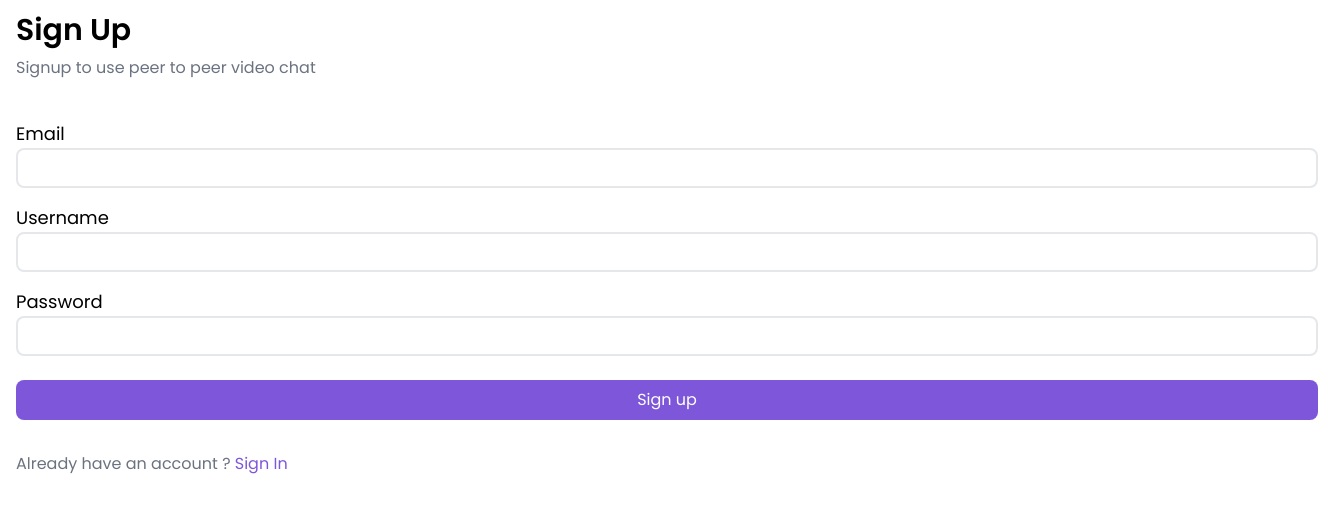
Test: Signup form › should show error if username is taken
Type "test@test.com" into the field labelled "Email".
click(667, 168); type("test@test.com")  # box [16,148,1318,188]
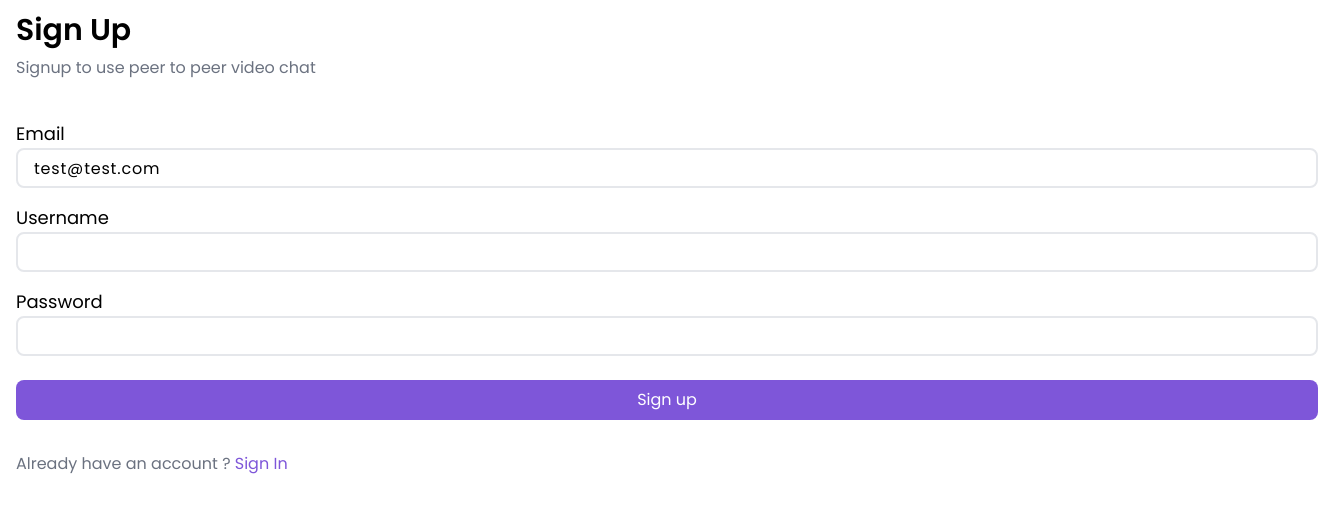
Type "iamtestuser" into the field labelled "Username".
click(667, 252); type("iamtestuser")  # box [16,232,1318,272]
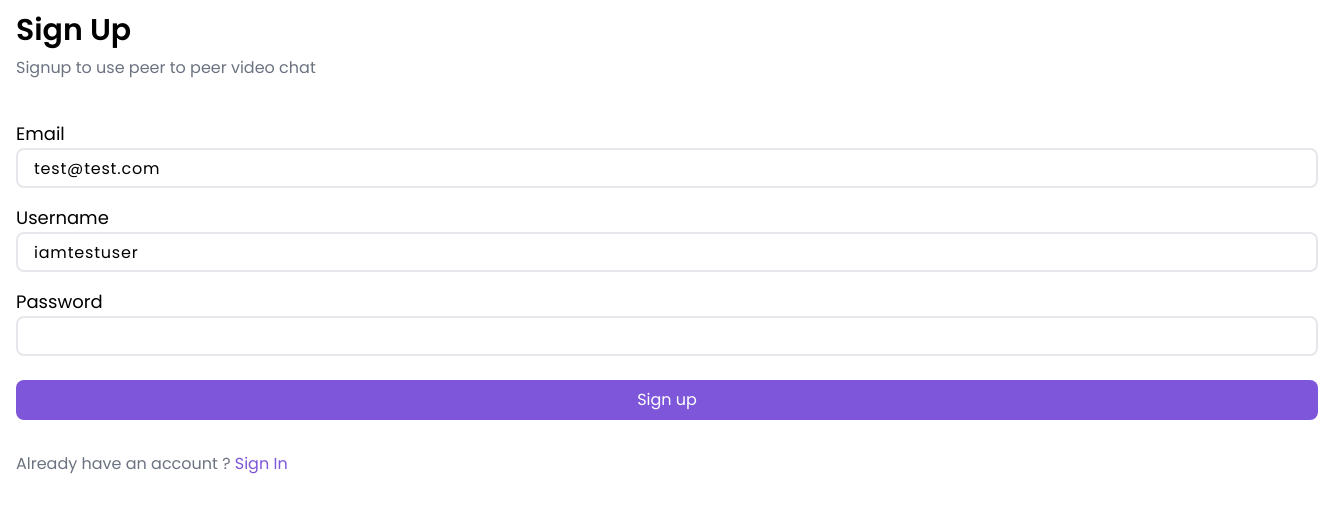
Type "testpassword" into the password field labelled "Password".
click(667, 336); type("testpassword")  # box [16,316,1318,356]
Then press Enter
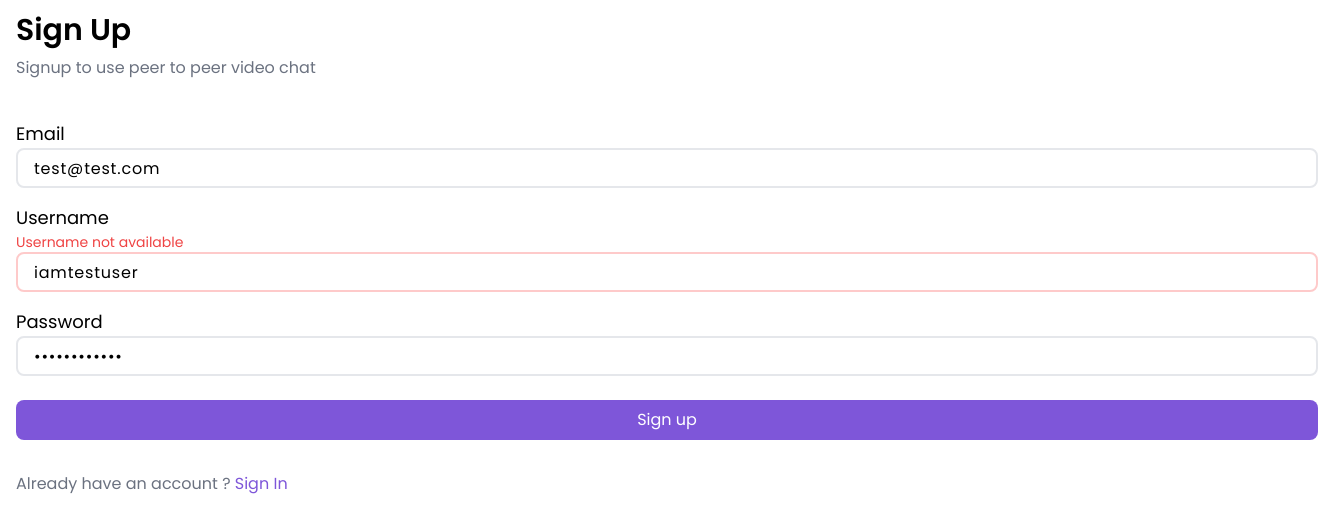
Check: the text "Username not available" is shown, box [16,232,183,252]
